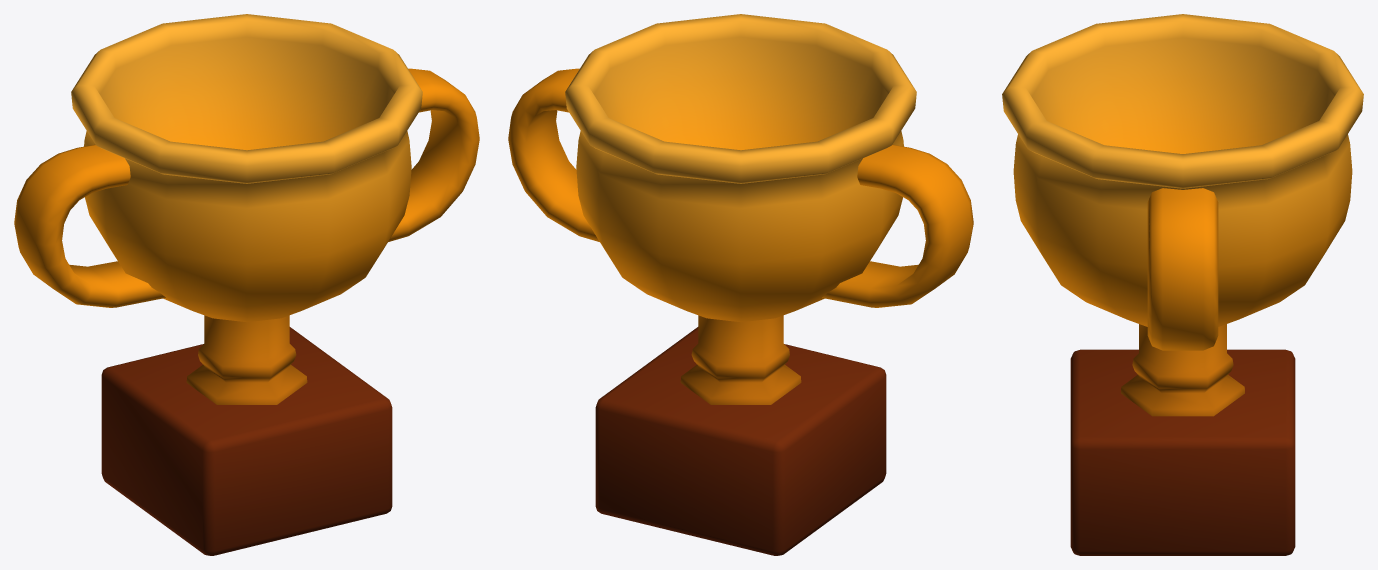
The model's file is Collectible_Trophy_01.glb.
The picture shows the model from 3 angles, left to right: view 1: azimuth 30°, elevation 25°; view 2: azimuth 150°, elevation 25°; view 3: azimuth 270°, elevation 25°; orthographic projection. The views are drawn at different scales.
Visible parts, largest first — view 1: Collectible_Trophy_01; view 2: Collectible_Trophy_01; view 3: Collectible_Trophy_01.
Part boxes in pixels (left/top/right/bottom): Collectible_Trophy_01: left=14, top=14, right=479, bottom=555; Collectible_Trophy_01: left=508, top=14, right=973, bottom=555; Collectible_Trophy_01: left=1002, top=14, right=1363, bottom=555.
Size of the model in its own units: 0.825 by 0.7346 by 0.5674.
1 material, 1 textured.
